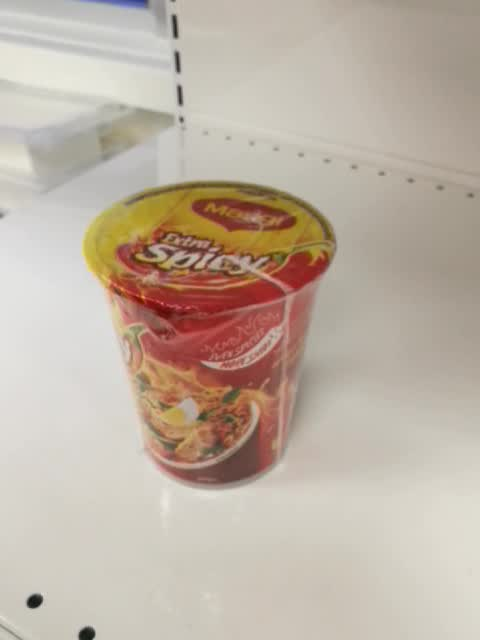maggi: (81, 179, 337, 492)
